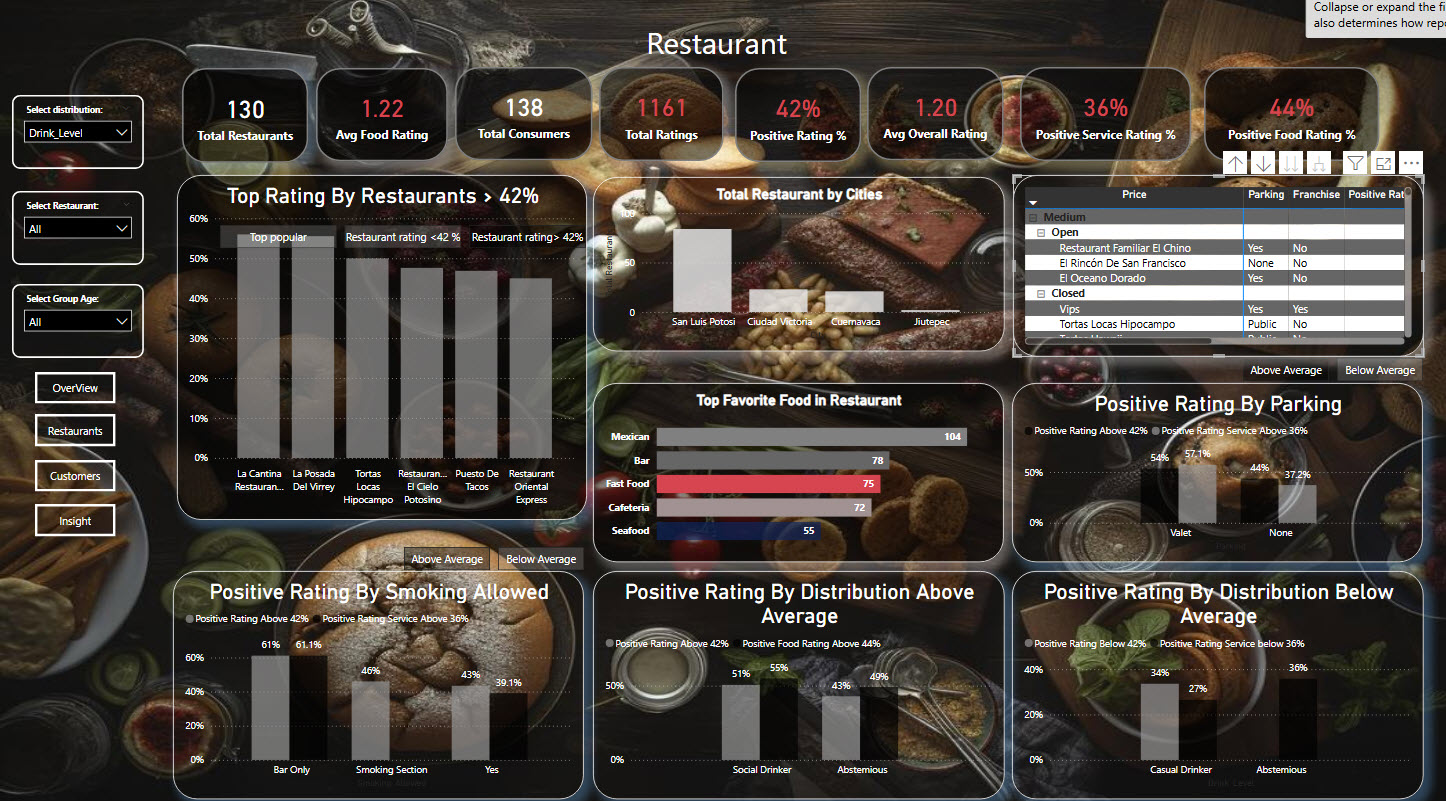

This screenshot's page, from the dashboard's own definition file:
{"tool":"powerbi","page":{"name":"Restaurants","canvas":[1800,1010],"ordinal":1},"visuals":[{"type":"actionButton","title":"OverView","box":[43,469,100,39],"z":0},{"type":"card","title":"Total Revenue","fields":{"Values":["Measure.Total Restaurants"]},"box":[227,91,157,118],"z":1000},{"type":"card","title":"Total Revenue","fields":{"Values":["Measure.Avg Food Rating"]},"box":[393,91,164,116],"z":2000},{"type":"card","title":"Total Revenue","fields":{"Values":["Measure.Total Consumers"]},"box":[566,90,171,116],"z":3000},{"type":"card","title":"Total Revenue","fields":{"Values":["Measure.Total Ratings"]},"box":[745,90,155,117],"z":4000},{"type":"card","title":"Total Revenue","fields":{"Values":["Measure.Positive Rating %"]},"box":[914,91,157,117],"z":5000},{"type":"card","title":"Total Revenue","fields":{"Values":["Measure.Avg Overall Rating"]},"box":[1079,90,170,116],"z":6000},{"type":"textbox","box":[334,28,1119,62],"z":7000},{"type":"lineClusteredColumnComboChart","title":"Top  Rating By Restaurants > 42%","fields":{"Category":["dim_restaurants.Name"],"Y":["Measure.Positive Rating %"]},"box":[220,224,510,429],"z":8000},{"type":"barChart","title":"Top Favorite Food in Restaurant","fields":{"Y":["Measure.Total Consumers"],"Category":["dim_restaurant_cuisines.Cuisine"]},"box":[738,483,511,223],"z":9000},{"type":"pivotTable","title":"Orders n Revenue by Month","fields":{"Rows":["dim_restaurants.Price","dim_restaurants.Area","dim_restaurants.Name"],"Values":["Min(dim_restaurants.Parking)","Min(dim_restaurants.Franchise)","Measure.Positive Rating %","Measure.Total Consumers","Measure.Avg Age"]},"box":[1260,224,511,226],"z":10000},{"type":"slicer","fields":{"Values":["Parameter.Parameter"]},"box":[15,124,164,92],"z":11000},{"type":"slicer","fields":{"Values":["dim_restaurants.Name"]},"box":[14.6,244.1,164.4,92.4],"z":12000},{"type":"slicer","fields":{"Values":["dim_consumers.Age Group"]},"box":[14.6,359.9,164.4,92.4],"z":13000},{"type":"actionButton","title":"OverView","box":[43,521,100,40],"z":14000},{"type":"actionButton","title":"OverView","box":[43,578,100,39],"z":15000},{"type":"clusteredColumnChart","title":"Positive Rating By Smoking Allowed","fields":{"Y":["Measure.Positive Rating Above 42%","Measure.Positive Rating Service Above 42%"],"Category":["dim_restaurants.Smoking_Allowed"]},"box":[215,717,511,284],"z":16000},{"type":"lineClusteredColumnComboChart","title":"Positive Rating By Parking","fields":{"Category":["dim_restaurants.Parking"],"Y":["Measure.Positive Rating Above 42%","Measure.Positive Rating Service Above 42%"]},"box":[1259,483,511,223],"z":17000},{"type":"card","title":"Total Revenue","fields":{"Values":["Measure.Positive Service Rating %"]},"box":[1269,90,213,117],"z":18000},{"type":"card","title":"Total Revenue","fields":{"Values":["Measure.Positive Food Rating %"]},"box":[1498,90,218,117],"z":19000},{"type":"clusteredColumnChart","title":"Total Restaurant by Cities","fields":{"Category":["dim_restaurants.City"],"Y":["Measure.Total Restaurants"]},"box":[738,226,512,217],"z":21000},{"type":"actionButton","title":"OverView","box":[43,633,100,40],"z":22000},{"type":"bookmarkNavigator","box":[274,286,456,29],"z":25000},{"type":"lineClusteredColumnComboChart","title":"Positive Rating By Distribution Above Average","fields":{"Category":["dim_consumers.Drink_Level"],"Y":["Measure.Positive Rating Above 42%","Measure.Positive Food Rating Above 44%"]},"box":[737,717,512,284],"z":26000},{"type":"lineClusteredColumnComboChart","title":"Positive Rating By Distribution Below Average","fields":{"Category":["dim_consumers.Drink_Level"],"Y":["Measure.Positive Rating Below 42%","Measure.Positive Rating Service below 36%"]},"box":[1259,717,512,284],"z":27000},{"type":"bookmarkNavigator","box":[502,686,224,29],"z":29000},{"type":"bookmarkNavigator","box":[1546,452,224,29],"z":31000}]}

Visuals, with their boxes on the page's 1800x1010 design canvas (x1, y1, x2, y2). These are canvas units, not pixel positions in the 1446x801 screenshot, which may show the page scaled, cropped or inside an application window:
"OverView" actionButton: bbox=[43, 469, 143, 508]
"Total Revenue" card: bbox=[227, 91, 384, 209]
"Total Revenue" card: bbox=[393, 91, 557, 207]
"Total Revenue" card: bbox=[566, 90, 737, 206]
"Total Revenue" card: bbox=[745, 90, 900, 207]
"Total Revenue" card: bbox=[914, 91, 1071, 208]
"Total Revenue" card: bbox=[1079, 90, 1249, 206]
textbox: bbox=[334, 28, 1453, 90]
"Top  Rating By Restaurants > 42%" lineClusteredColumnComboChart: bbox=[220, 224, 730, 653]
"Top Favorite Food in Restaurant" barChart: bbox=[738, 483, 1249, 706]
"Orders n Revenue by Month" pivotTable: bbox=[1260, 224, 1771, 450]
slicer - Parameter.Parameter: bbox=[15, 124, 179, 216]
slicer - dim_restaurants.Name: bbox=[15, 244, 179, 336]
slicer - dim_consumers.Age Group: bbox=[15, 360, 179, 452]
"OverView" actionButton: bbox=[43, 521, 143, 561]
"OverView" actionButton: bbox=[43, 578, 143, 617]
"Positive Rating By Smoking Allowed" clusteredColumnChart: bbox=[215, 717, 726, 1001]
"Positive Rating By Parking" lineClusteredColumnComboChart: bbox=[1259, 483, 1770, 706]
"Total Revenue" card: bbox=[1269, 90, 1482, 207]
"Total Revenue" card: bbox=[1498, 90, 1716, 207]
"Total Restaurant by Cities" clusteredColumnChart: bbox=[738, 226, 1250, 443]
"OverView" actionButton: bbox=[43, 633, 143, 673]
bookmarkNavigator: bbox=[274, 286, 730, 315]
"Positive Rating By Distribution Above Average" lineClusteredColumnComboChart: bbox=[737, 717, 1249, 1001]
"Positive Rating By Distribution Below Average" lineClusteredColumnComboChart: bbox=[1259, 717, 1771, 1001]
bookmarkNavigator: bbox=[502, 686, 726, 715]
bookmarkNavigator: bbox=[1546, 452, 1770, 481]
